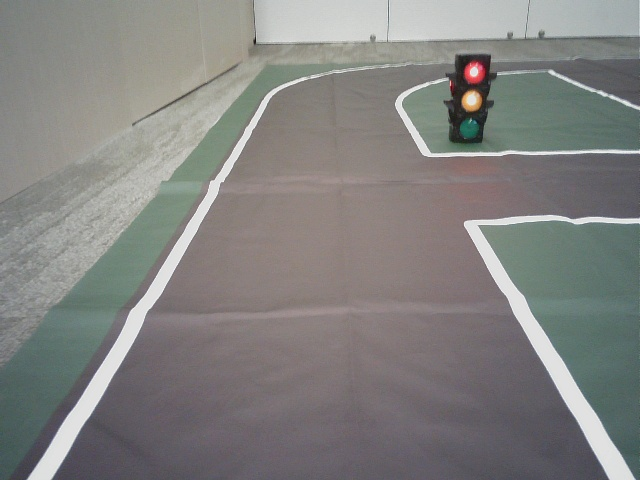red: (459, 57, 483, 139)
